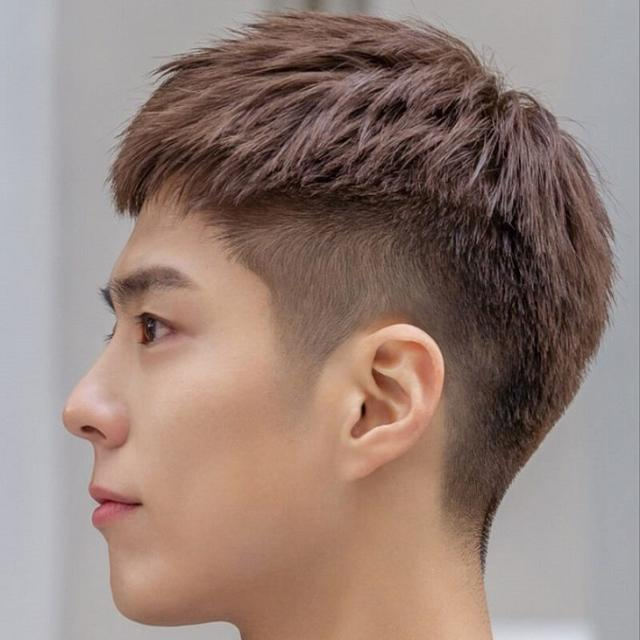Nonhelmet: (57, 8, 621, 632)
